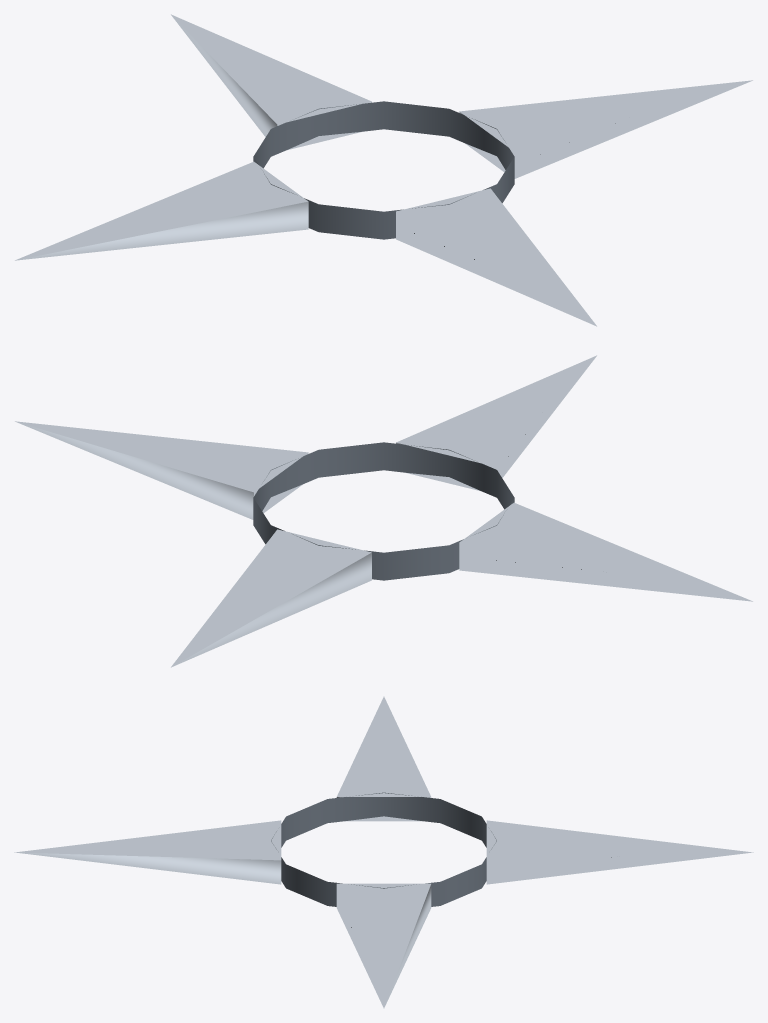
Rendered from shuriken.obj.
3 views of the same model, one above another, from view 1: azimuth 30°, elevation 25°; view 2: azimuth 150°, elevation 25°; view 3: azimuth 270°, elevation 25° (orthographic). The views are drawn at different scales.
Parts seen in each view (by area): view 1: shuriken; view 2: shuriken; view 3: shuriken.
Boxes of the visible parts, x1,y1,x2,y2 form: shuriken: (15, 14, 752, 326); shuriken: (15, 355, 752, 667); shuriken: (14, 696, 753, 1008).
Bounding box in the file's own units: 0.36 × 0.013 × 0.36.
